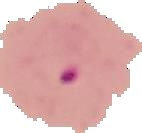parasitized: (21, 24, 102, 94)
